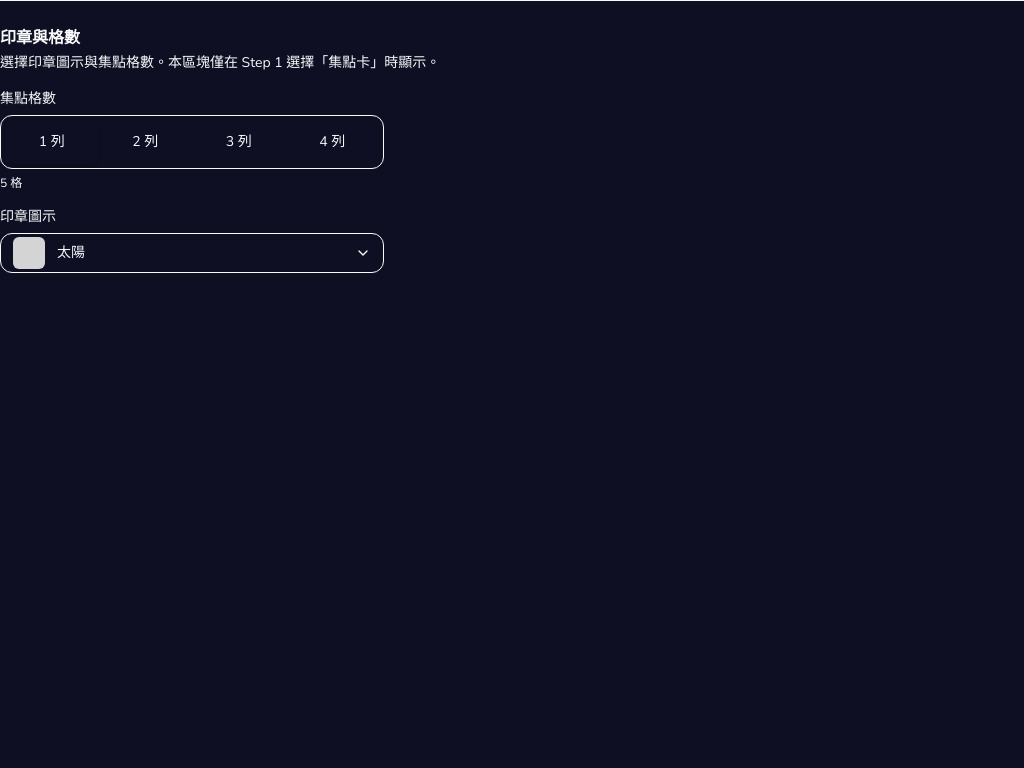
it: Step3StampGrid — StampIconPicker (desktop) › selected icon is marked data-state="checked"
Click the button "太陽" at (29, 253), box [0, 233, 384, 273]
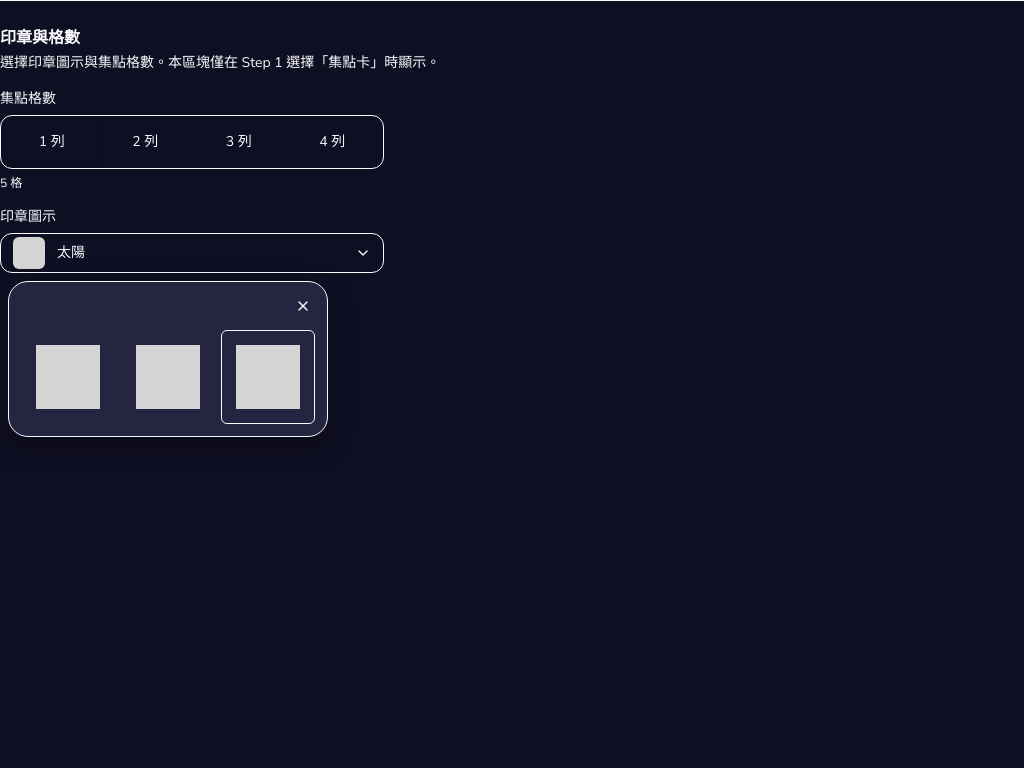
Expected: the dialog is shown, [8, 281, 328, 437]
